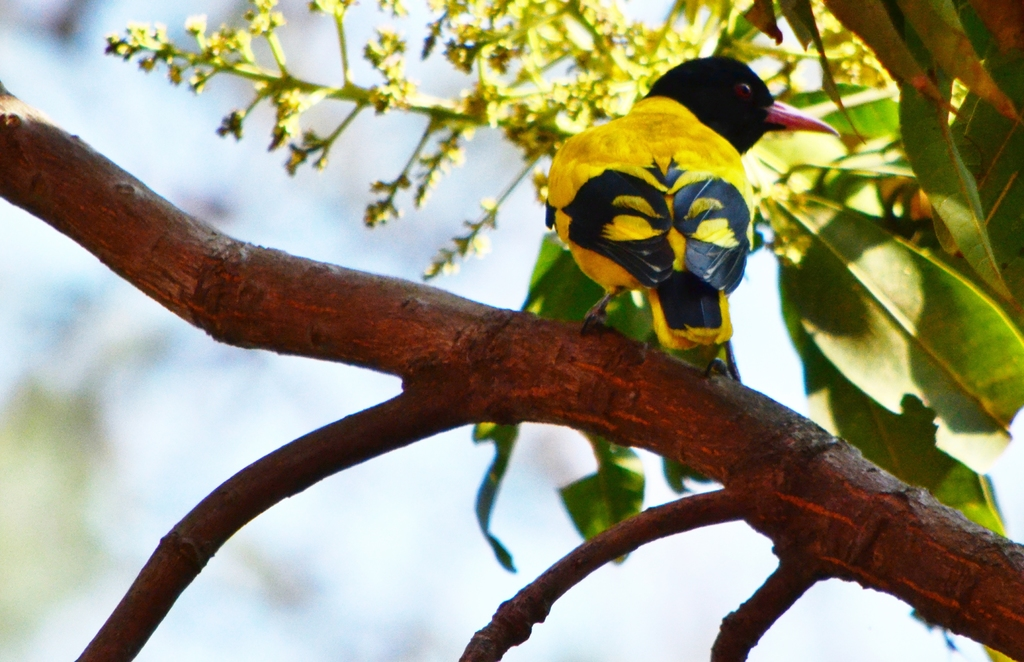person: (540, 53, 786, 395)
